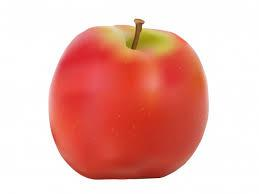Apple: (50, 25, 209, 180)
